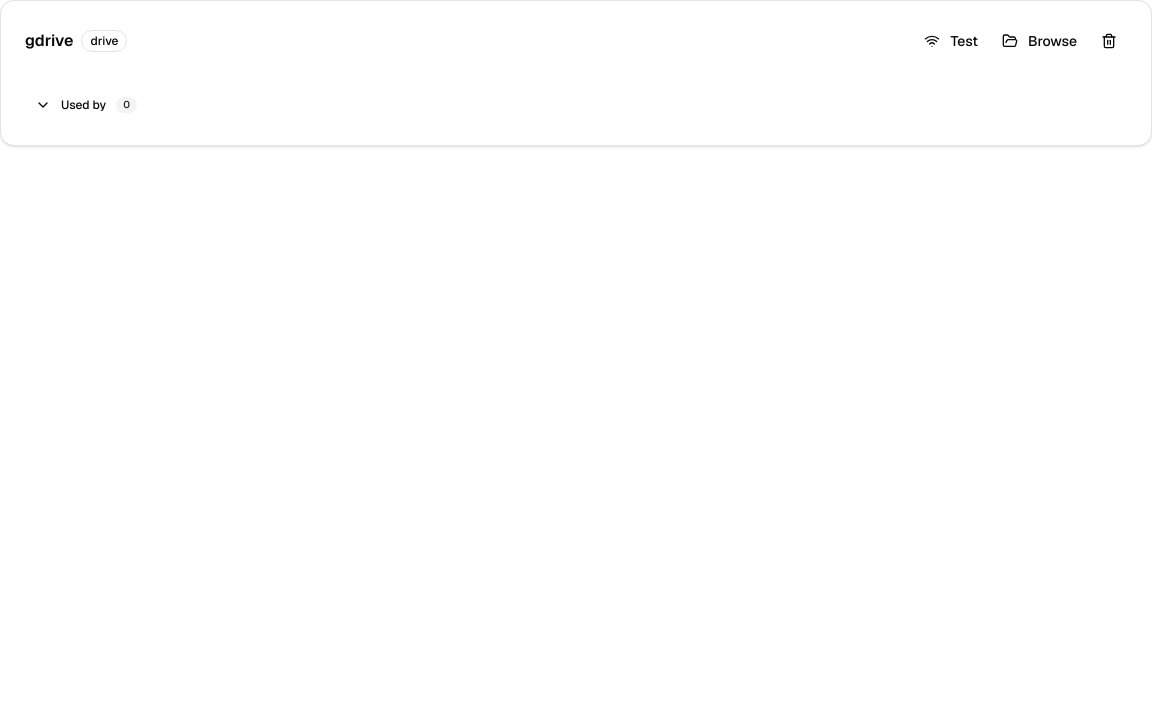
Test: RemoteCard › delete asks for confirmation before deleting
Click the button named "Delete remote gdrive". click: (1109, 41)
box: [1091,25,1127,57]
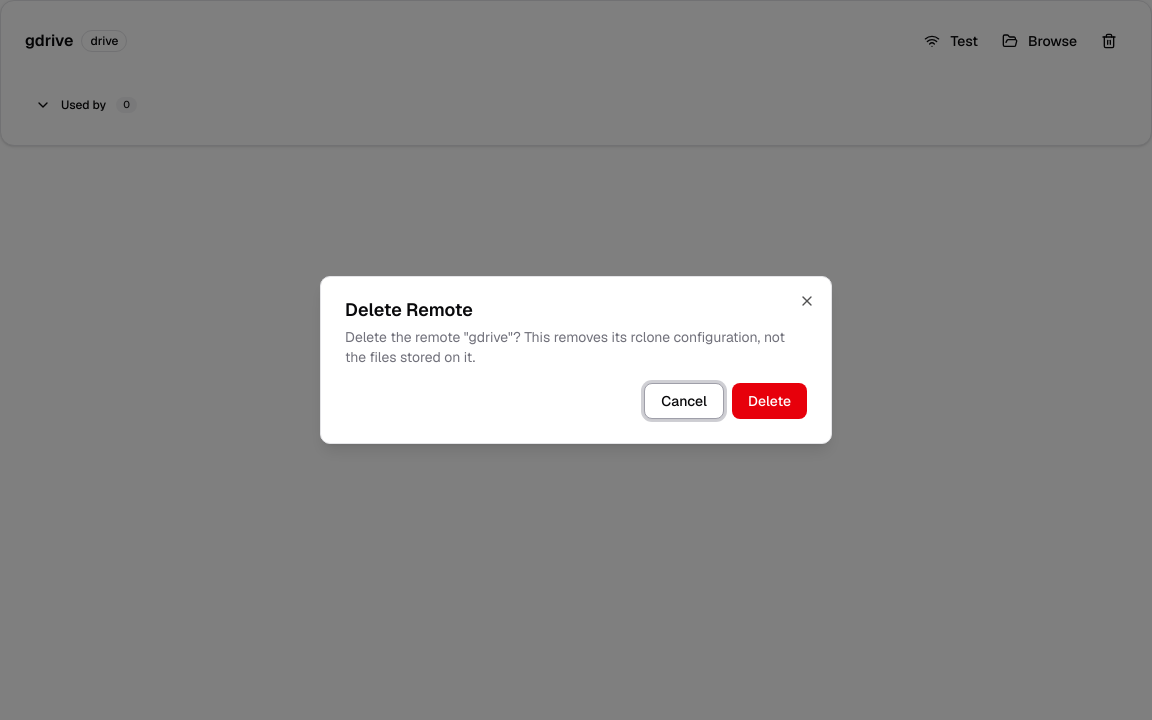
Expected: the button "Delete" is enabled
Click the button "Delete". click: (769, 401)
box: [732,383,807,419]
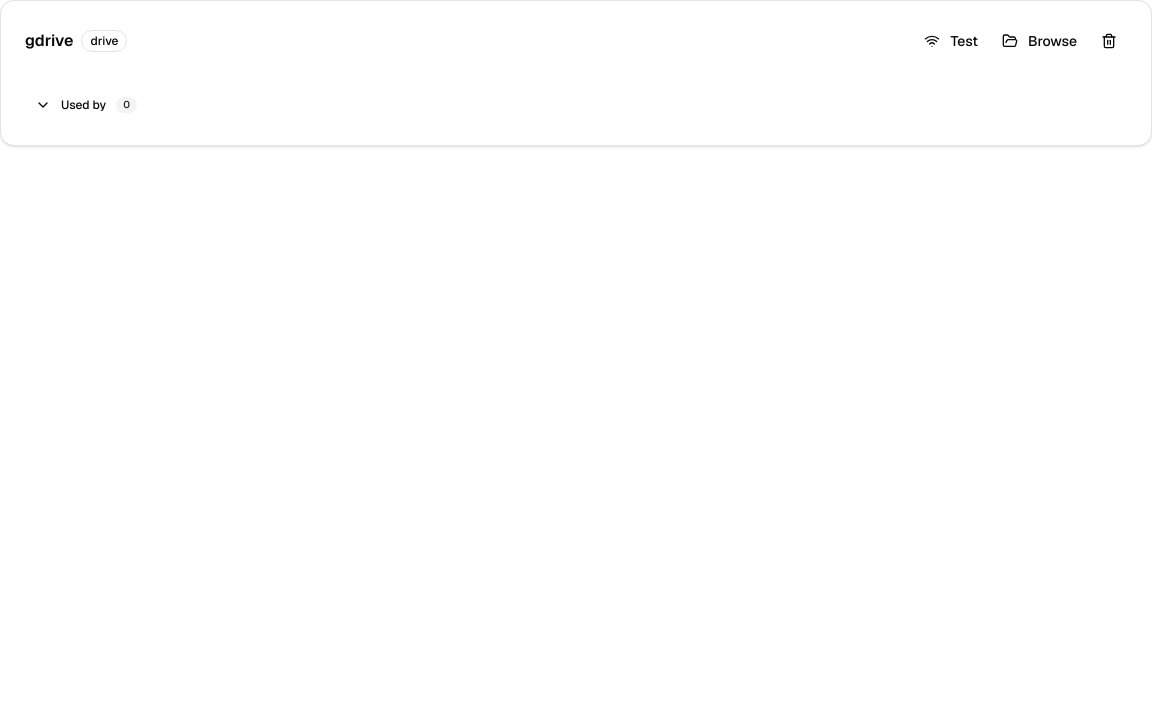
Expected: the dialog is gone
